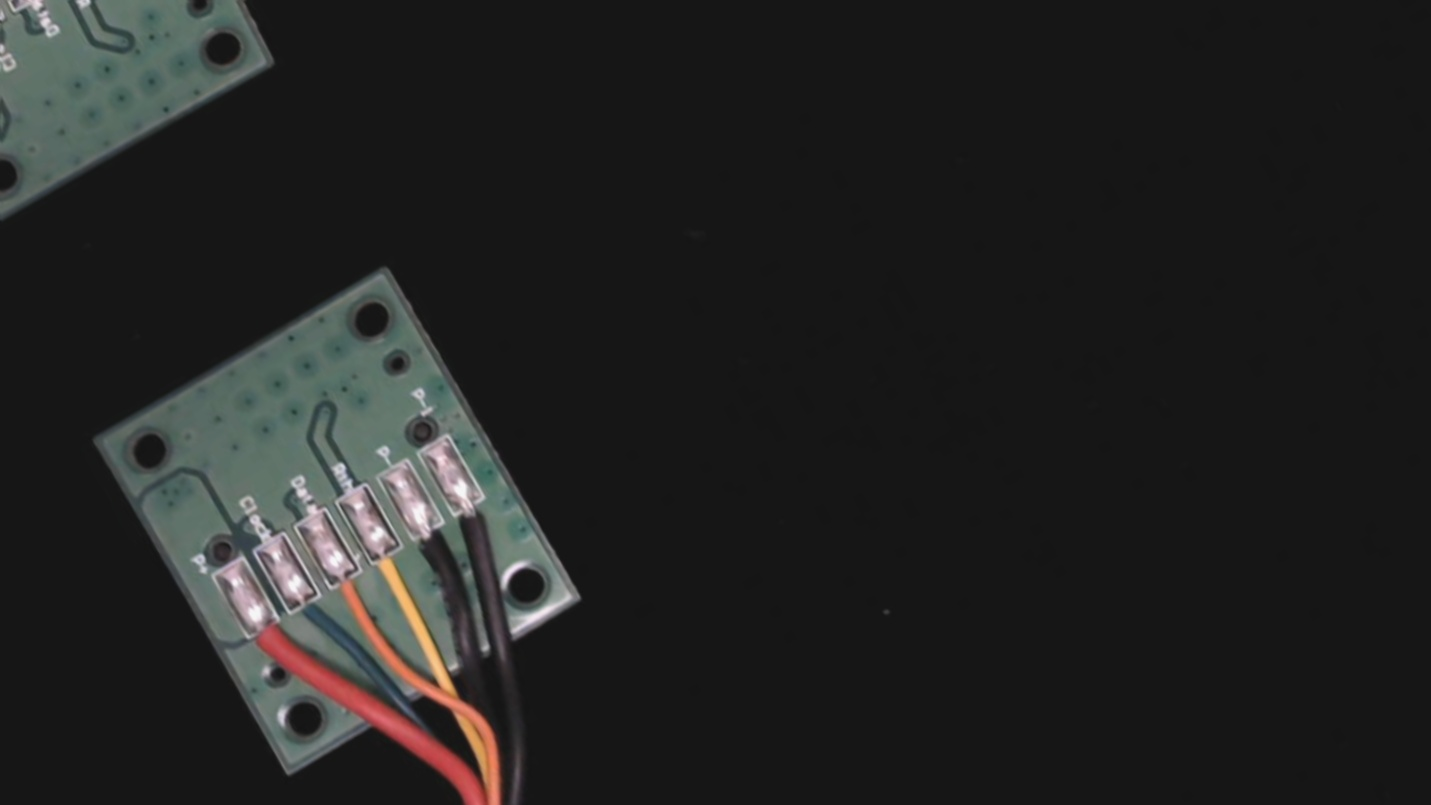Black: (400, 507, 471, 585)
Black1: (439, 483, 513, 562)
Green: (279, 578, 347, 651)
Orange: (318, 556, 386, 632)
Red: (233, 606, 310, 687)
Yellow: (357, 531, 428, 610)
